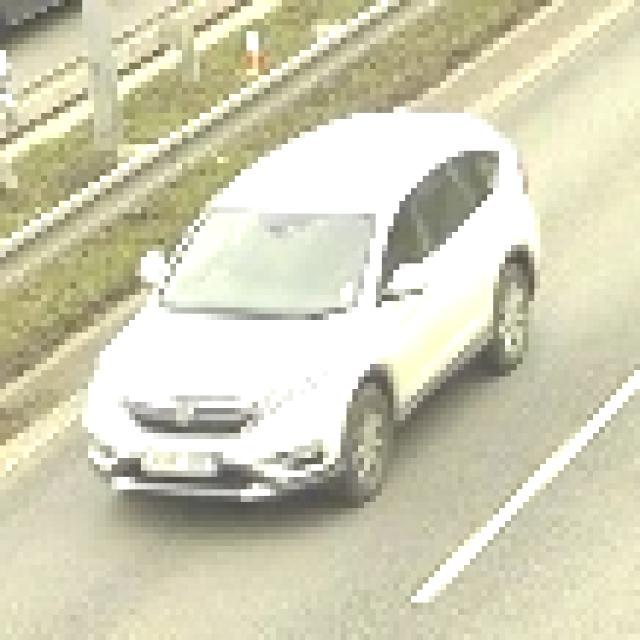SUV: (80, 114, 527, 493)
